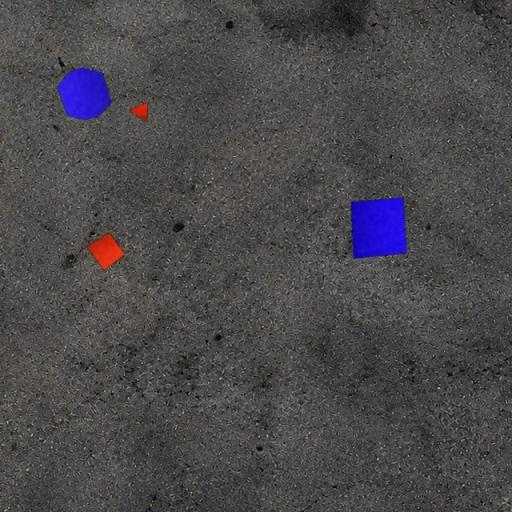BLUE_SQUARE: (350, 197, 408, 259)
RED_SQUARE: (86, 231, 126, 271)
